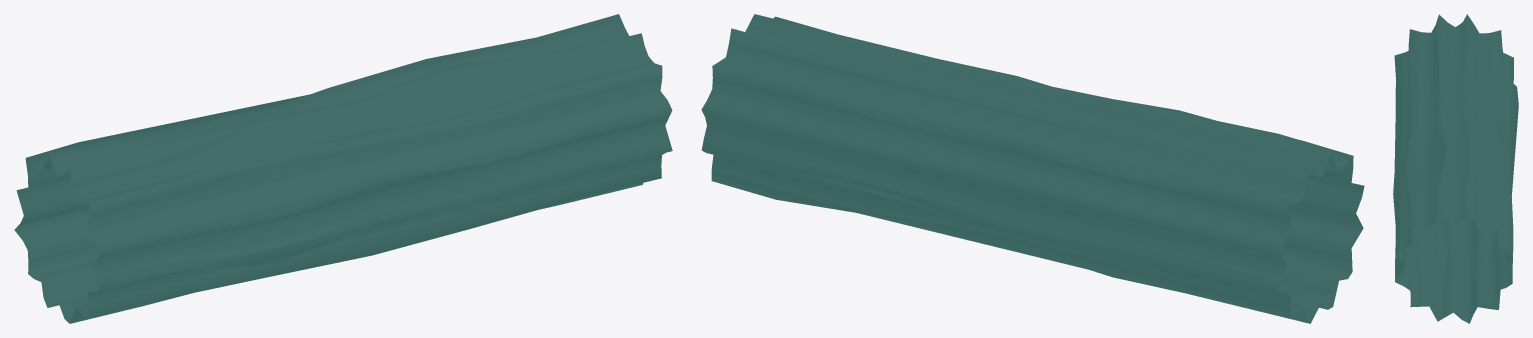
The model's file is WaveAnim01.glb.
The picture shows the model from 3 angles, left to right: view 1: azimuth 30°, elevation 25°; view 2: azimuth 150°, elevation 25°; view 3: azimuth 270°, elevation 25°; orthographic projection. The views are drawn at different scales.
Visible parts, largest first — view 1: waves01; view 2: waves01; view 3: waves01.
Part boxes in pixels (x1,y1,x2,y2): waves01: (14,14,672,323); waves01: (701,14,1364,323); waves01: (1393,14,1518,323).
Size of the model in its own units: 28.75 by 7.93 by 7.74.
